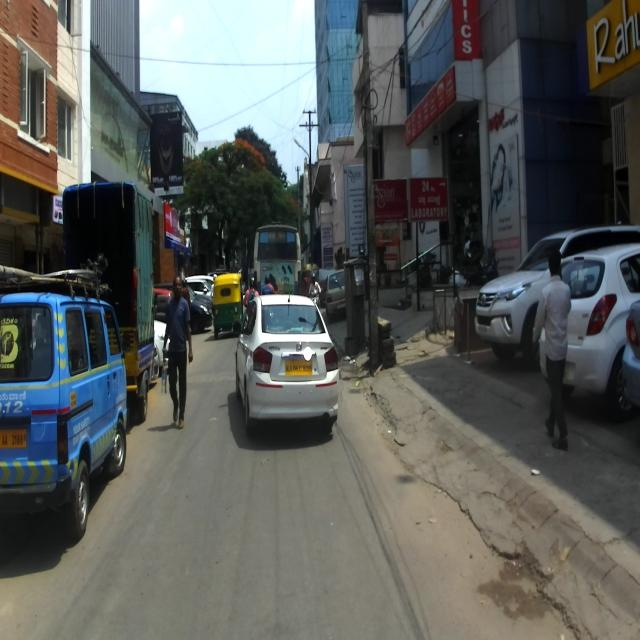car: (2, 258, 132, 541), (473, 224, 640, 373), (538, 241, 640, 422), (234, 291, 340, 438)
